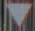Give way: (3, 0, 33, 30)
